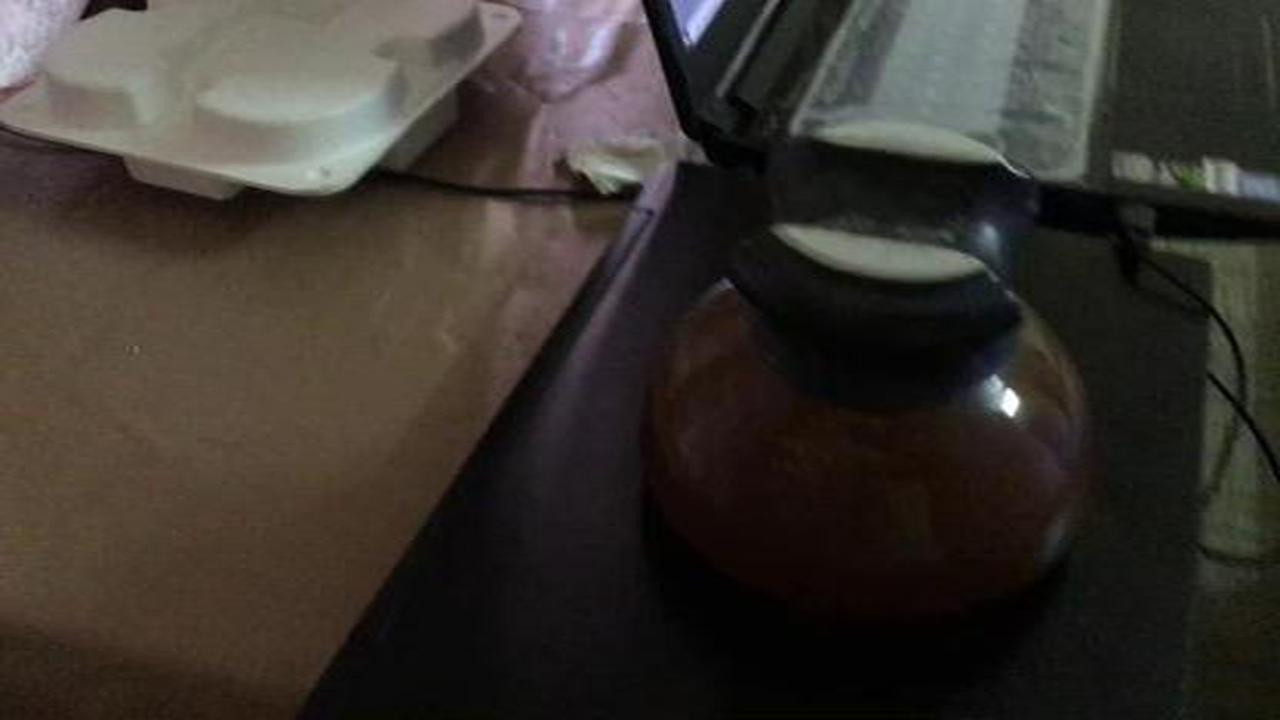insulator_pin: (622, 101, 1124, 660)
